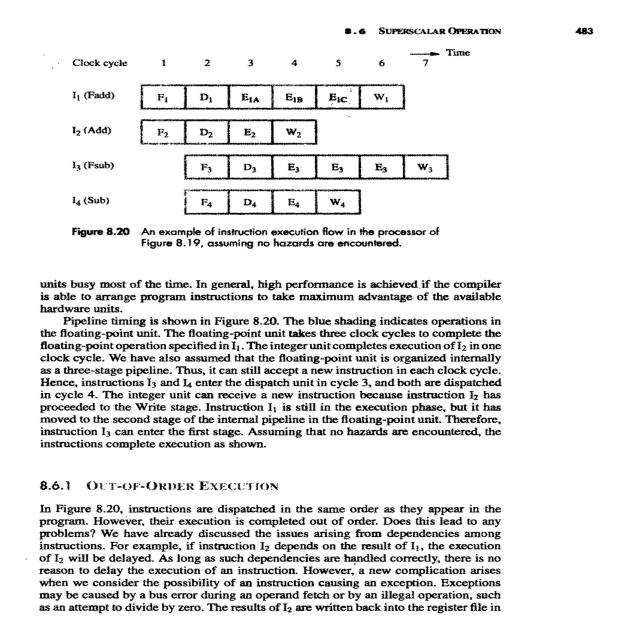diagram: (14, 46, 594, 258)
